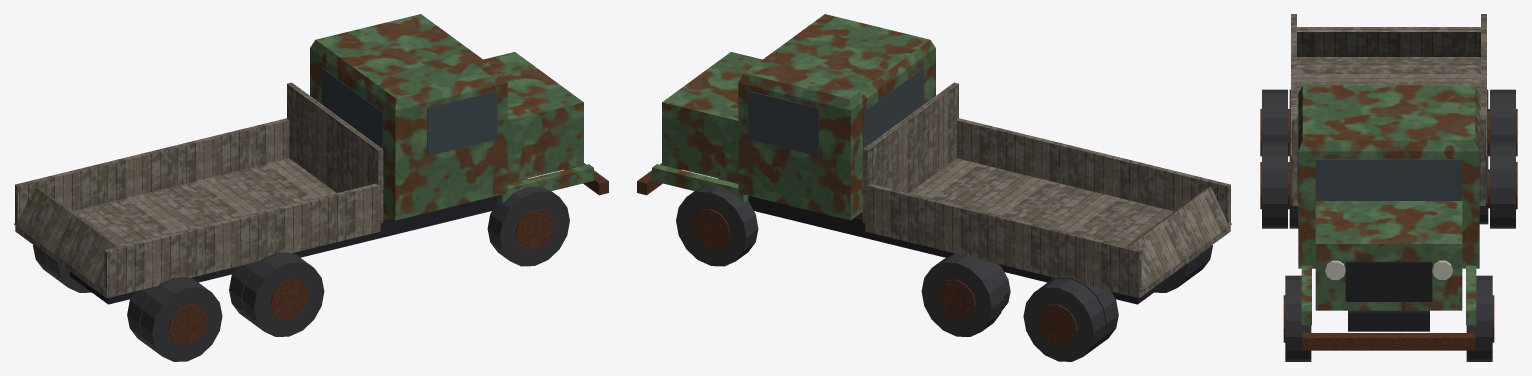
File: car_truck_green.glb
3 renders of one model, left to right at view 1: azimuth 30°, elevation 25°; view 2: azimuth 150°, elevation 25°; view 3: azimuth 270°, elevation 25°, orthographic. The views are drawn at different scales.
Parts seen in each view (by area): view 1: car_truck_green; view 2: car_truck_green; view 3: car_truck_green.
Boxes of the visible parts, x1,y1,x2,y2 form: car_truck_green: (14, 14, 608, 361); car_truck_green: (637, 14, 1231, 361); car_truck_green: (1260, 14, 1517, 361).
Bounding box in the file's own units: 7.24 × 2.62 × 2.98.
Materials: 7 (3 with a texture image).
